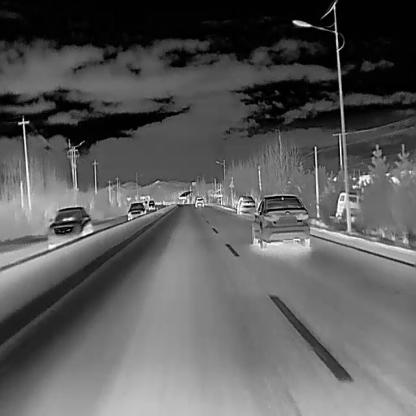car: (250, 192, 310, 250), (45, 206, 93, 250), (335, 190, 360, 220), (126, 201, 146, 221), (236, 195, 256, 215), (194, 196, 204, 207), (147, 199, 156, 211)
